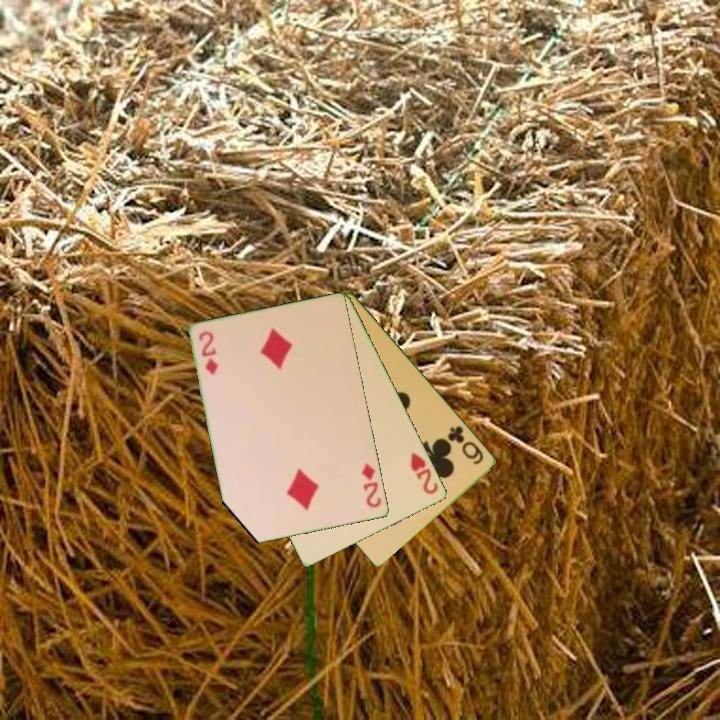2d: (358, 460, 384, 511), (195, 328, 221, 379)
2h: (407, 449, 441, 498)
6c: (444, 422, 487, 468)
